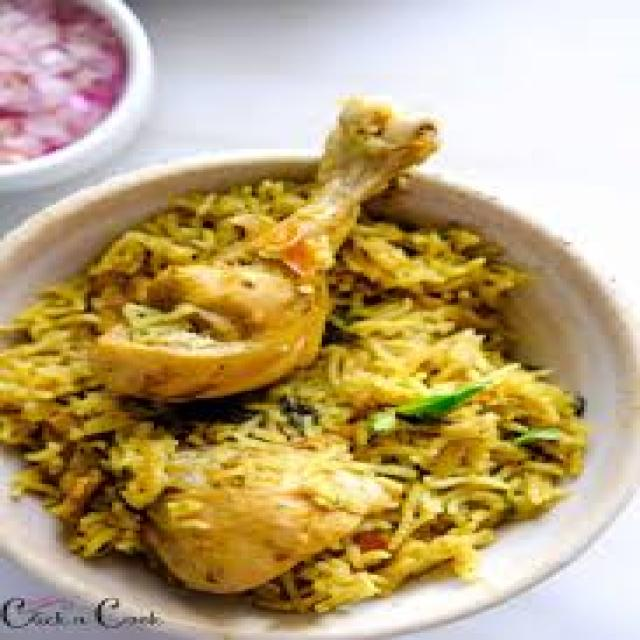Wet Waste: (12, 167, 603, 640)
